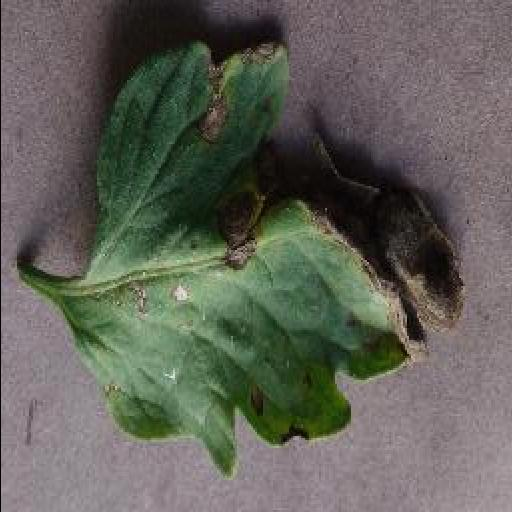disease_tomato: (63, 31, 465, 479)
